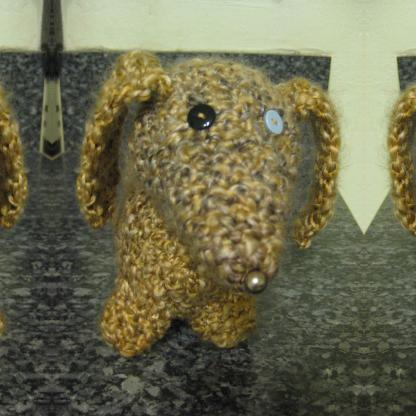Dog: (74, 49, 346, 361)
